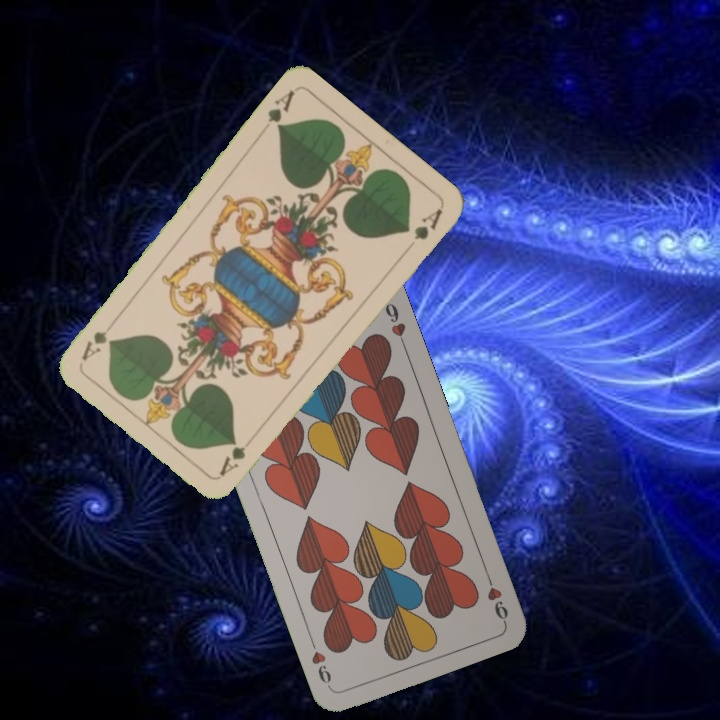GA: (215, 429, 260, 479), (263, 86, 298, 133)
H9: (481, 567, 511, 625)
